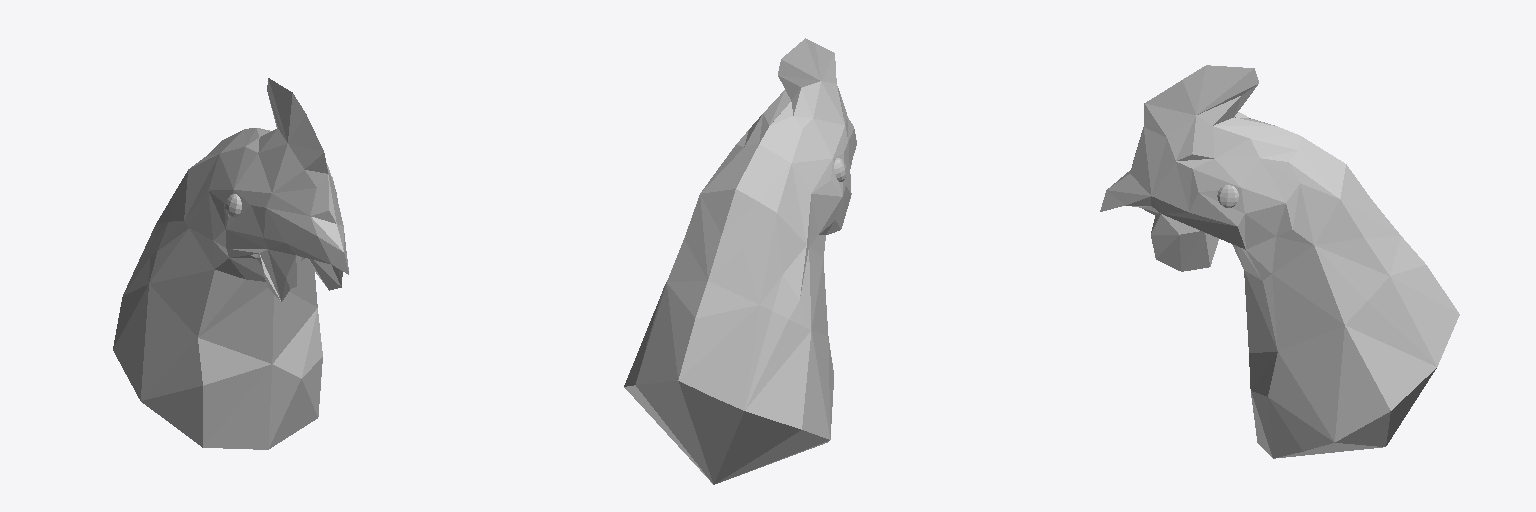
File: hed.obj
3 renders of one model, left to right at view 1: azimuth 30°, elevation 25°; view 2: azimuth 150°, elevation 25°; view 3: azimuth 270°, elevation 25°, orthographic.
Visible parts, largest first — view 1: polySurface460 polySurface1; view 2: polySurface460 polySurface1; view 3: polySurface460 polySurface1.
Part boxes in pixels (x1,y1,x2,y2): polySurface460 polySurface1: (113,78,348,449); polySurface460 polySurface1: (624,38,856,484); polySurface460 polySurface1: (1100,65,1459,458).
Size of the model in its own units: 15.14 by 30.99 by 26.53.